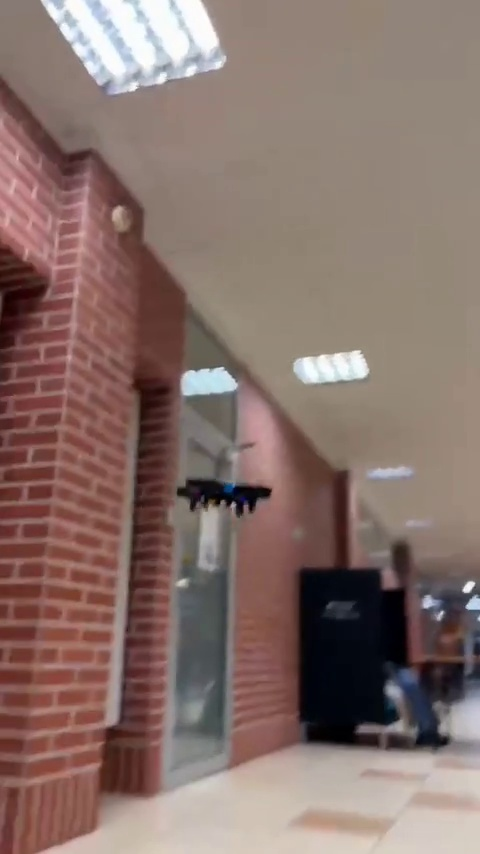drone: (174, 478, 273, 514)
